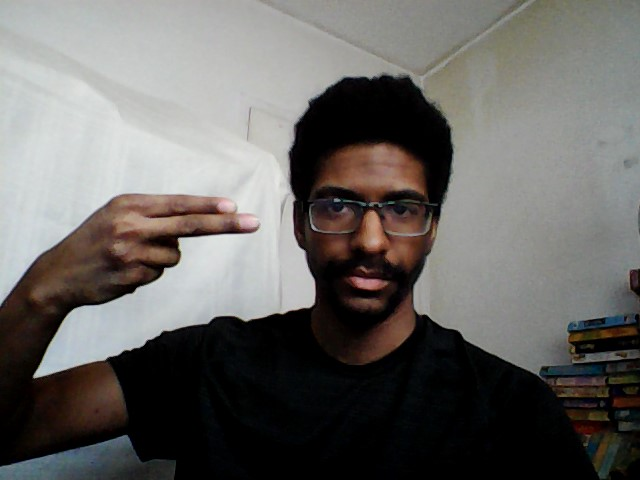h: (40, 189, 264, 314)
